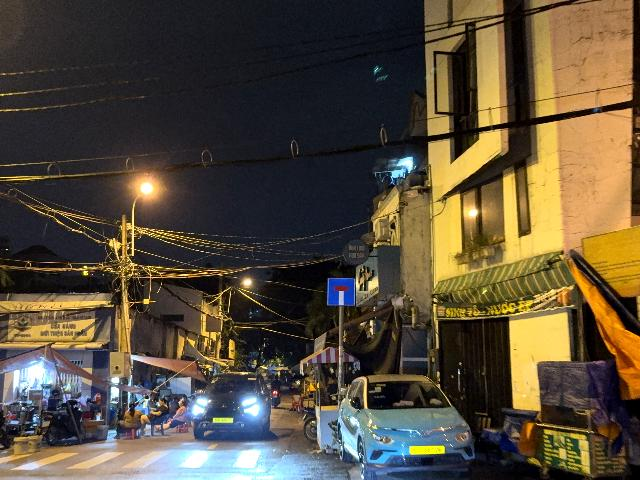duong-cut: (327, 279, 355, 305)
